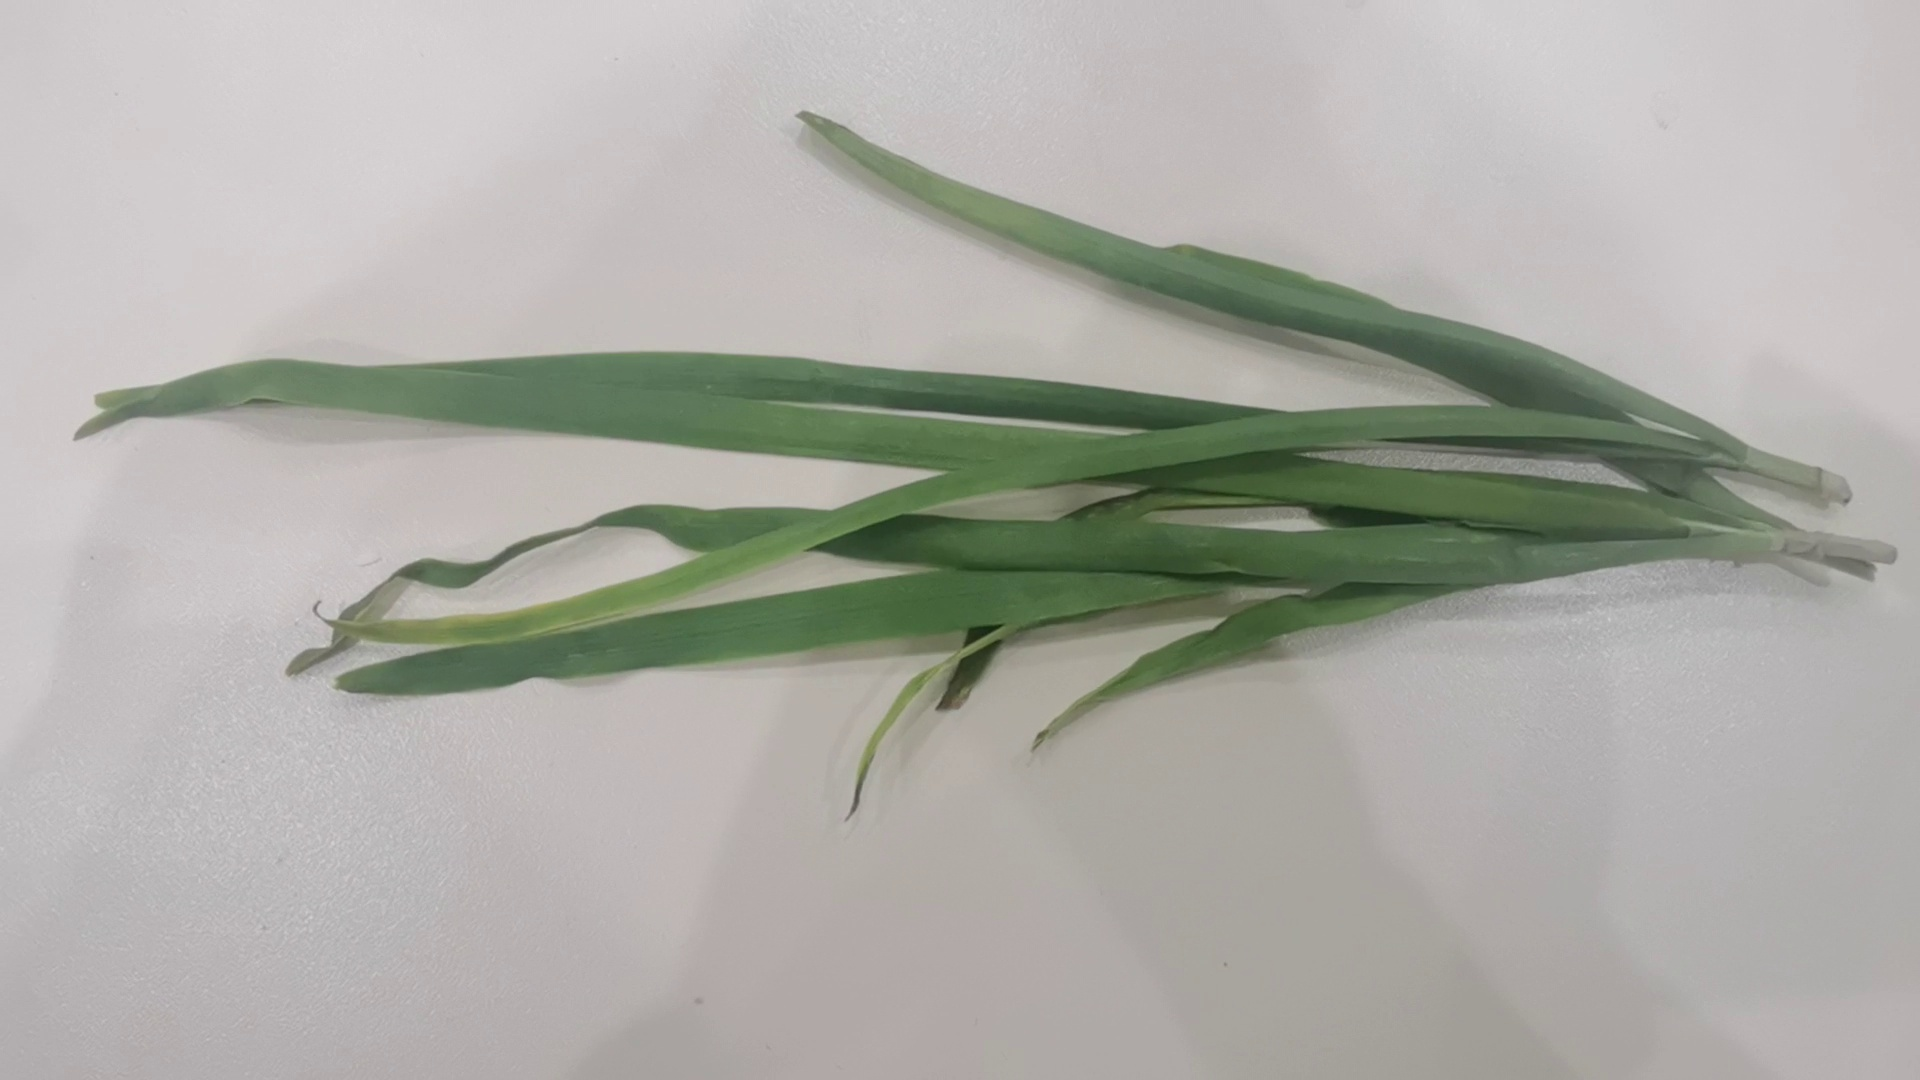chives: (59, 102, 1919, 829)
